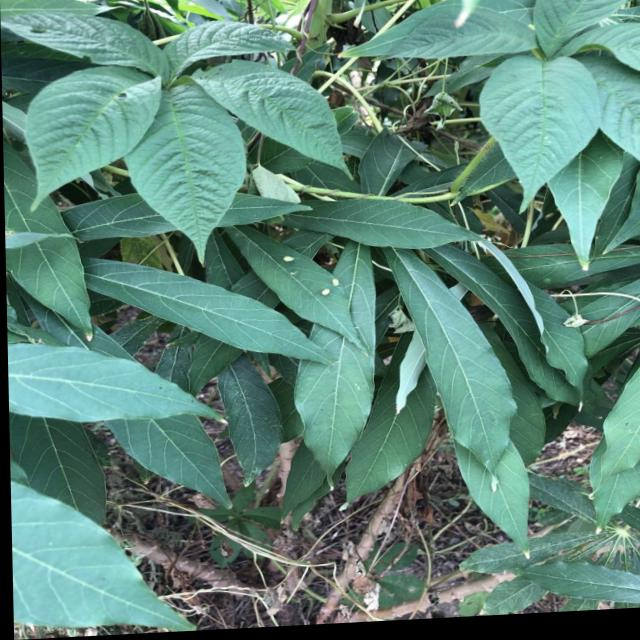Maleza: (21, 0, 347, 216), (374, 10, 640, 188)
Mosca: (318, 269, 348, 308), (484, 466, 512, 505), (71, 318, 98, 354), (479, 305, 507, 336), (271, 252, 295, 274)
